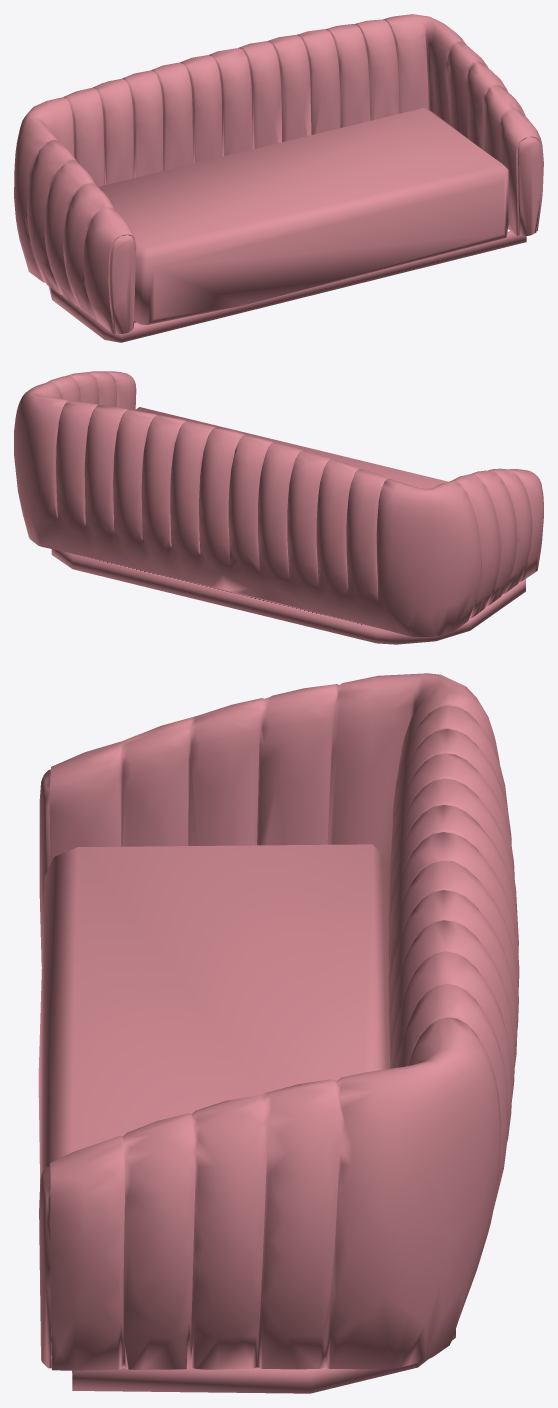
The model's file is sofa_blush.glb.
3 views of the same model, one above another, from view 1: azimuth 30°, elevation 25°; view 2: azimuth 150°, elevation 25°; view 3: azimuth 270°, elevation 25° (orthographic). The views are drawn at different scales.
Visible parts, largest first — view 1: defaultMaterial; view 2: defaultMaterial; view 3: defaultMaterial.
Part boxes in pixels (x1,y1,x2,y2): defaultMaterial: (14,14,543,342); defaultMaterial: (14,371,543,644); defaultMaterial: (38,673,519,1393).
Bounding box in the file's own units: 2 × 0.7105 × 0.8985.
1 material, 1 textured.
